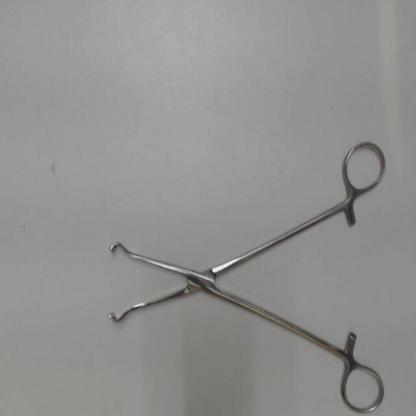8 Babcock Tissue Forceps: (104, 121, 393, 416)
